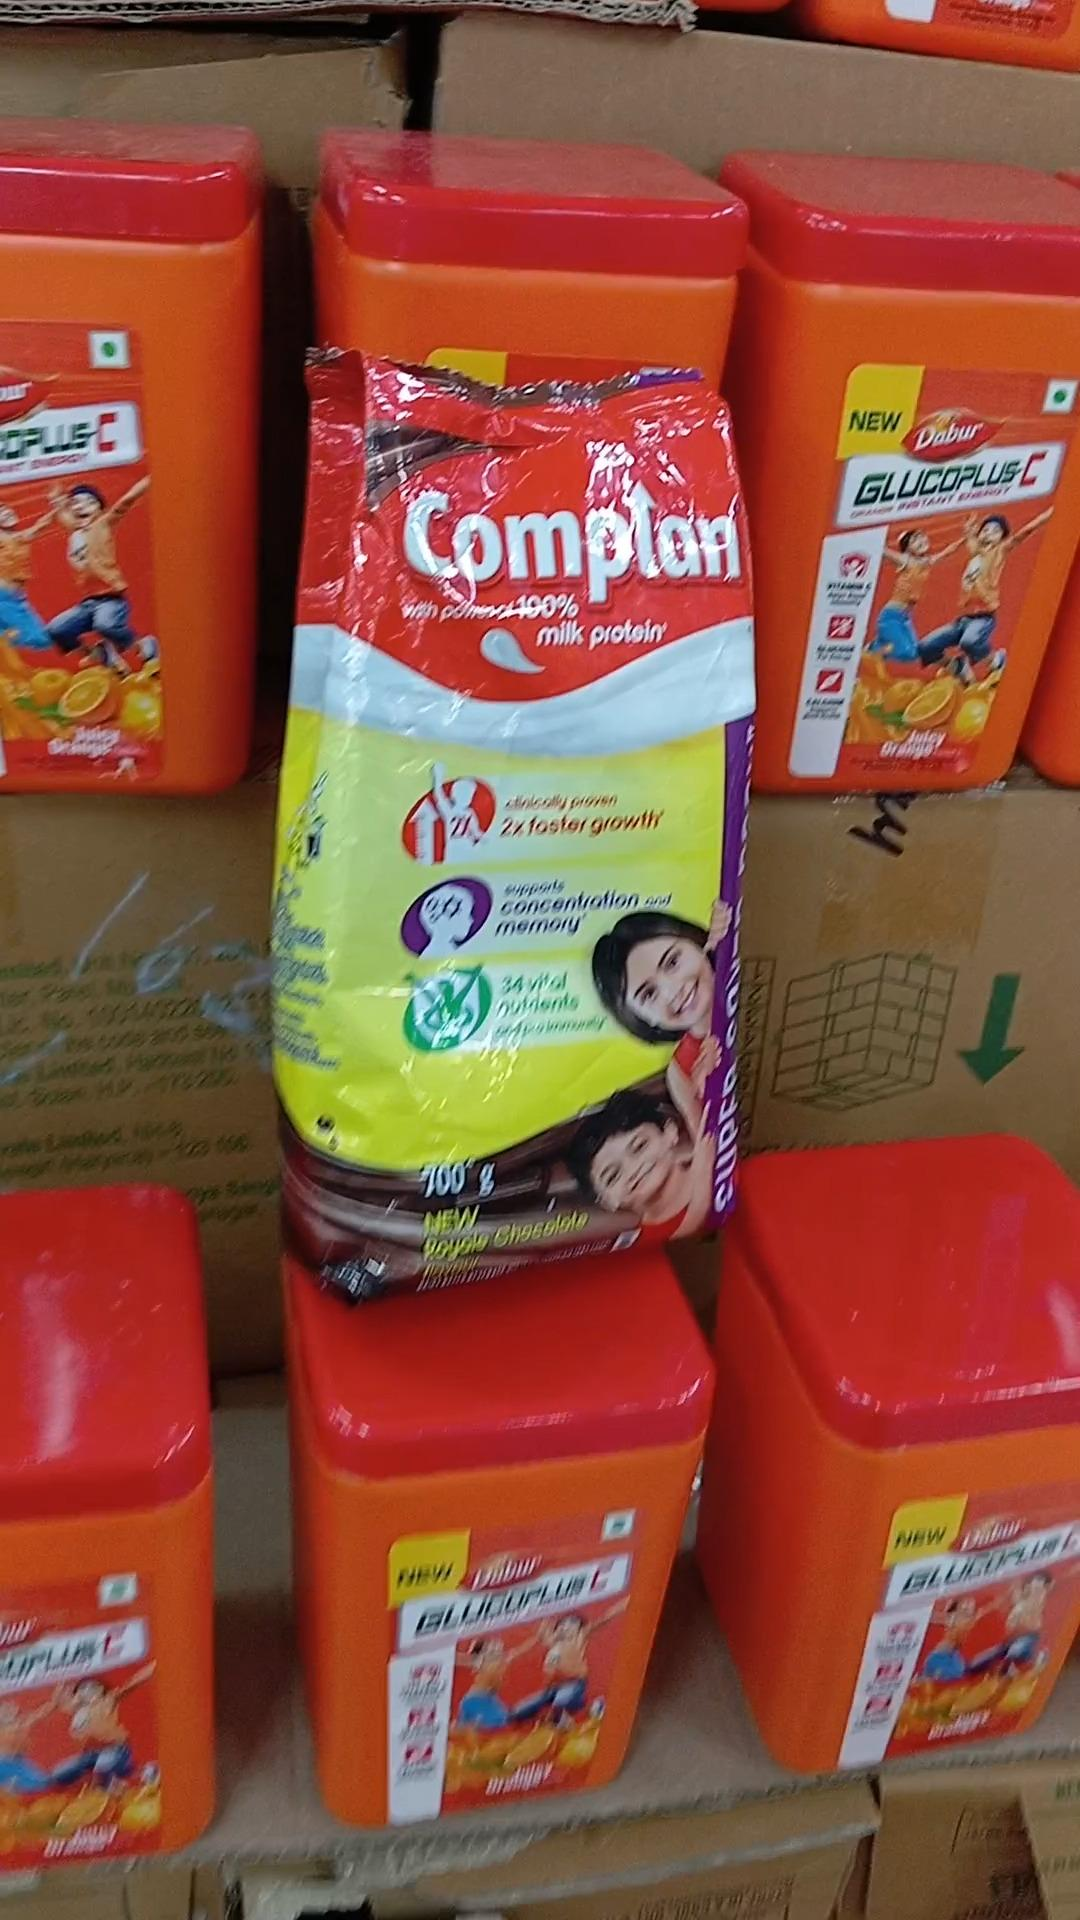COMPLAN_RC_POUCH_700_GMS_12: (306, 342, 758, 1283)
